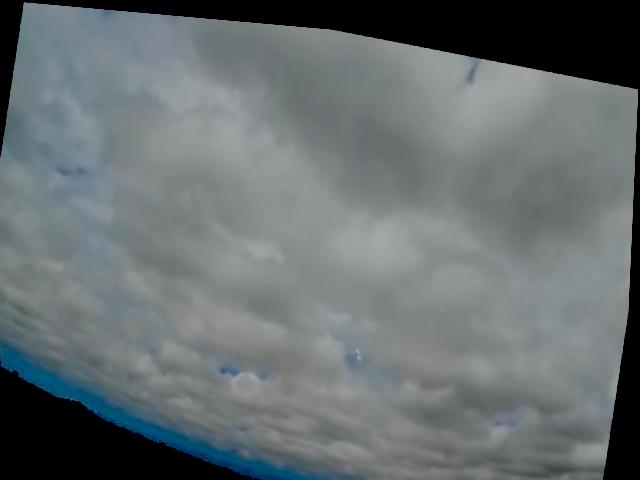uav: (348, 332, 376, 366)
